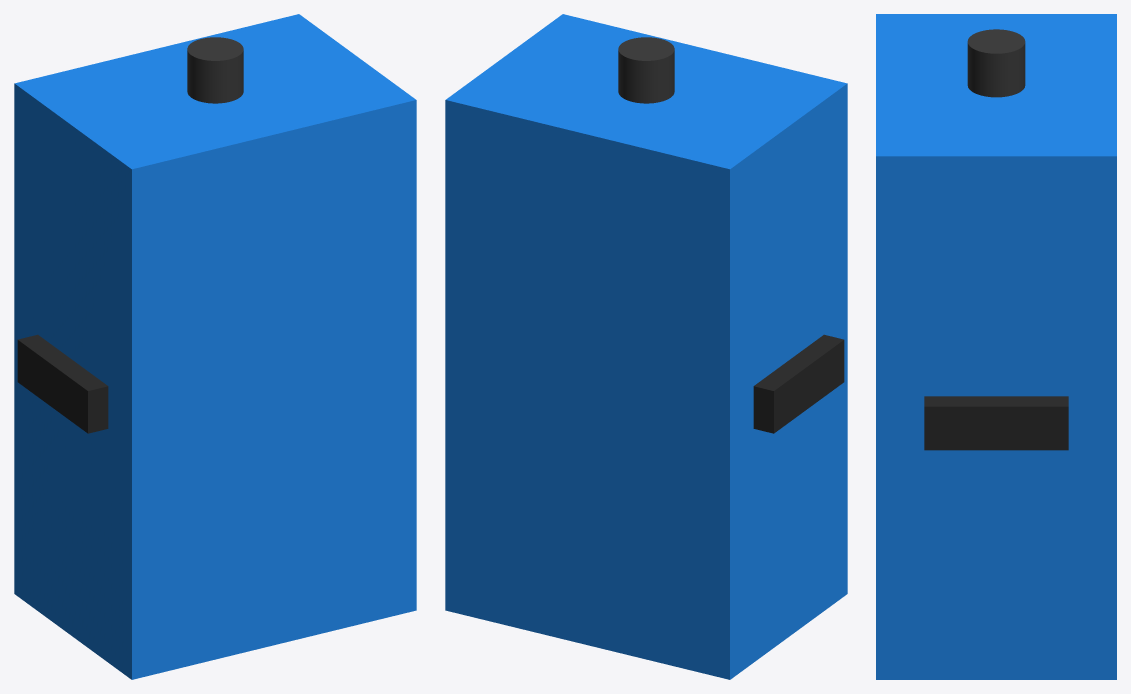
3 renders of one model, left to right at view 1: azimuth 30°, elevation 25°; view 2: azimuth 150°, elevation 25°; view 3: azimuth 270°, elevation 25°, orthographic. The views are drawn at different scales.
Visible parts, largest first — view 1: torso, base_plate, leg_left; view 2: torso, base_plate, leg_left; view 3: torso, base_plate, leg_left.
Boxes of the visible parts, x1,y1,x2,y2 form: torso: [14, 14, 416, 679]; base_plate: [17, 334, 108, 433]; leg_left: [187, 37, 243, 103]; torso: [445, 14, 847, 679]; base_plate: [753, 334, 844, 433]; leg_left: [618, 37, 674, 103]; torso: [876, 14, 1116, 679]; base_plate: [924, 396, 1068, 450]; leg_left: [967, 29, 1025, 97].
Bounding box in the file's own units: 0.4 × 0.7 × 0.25.
